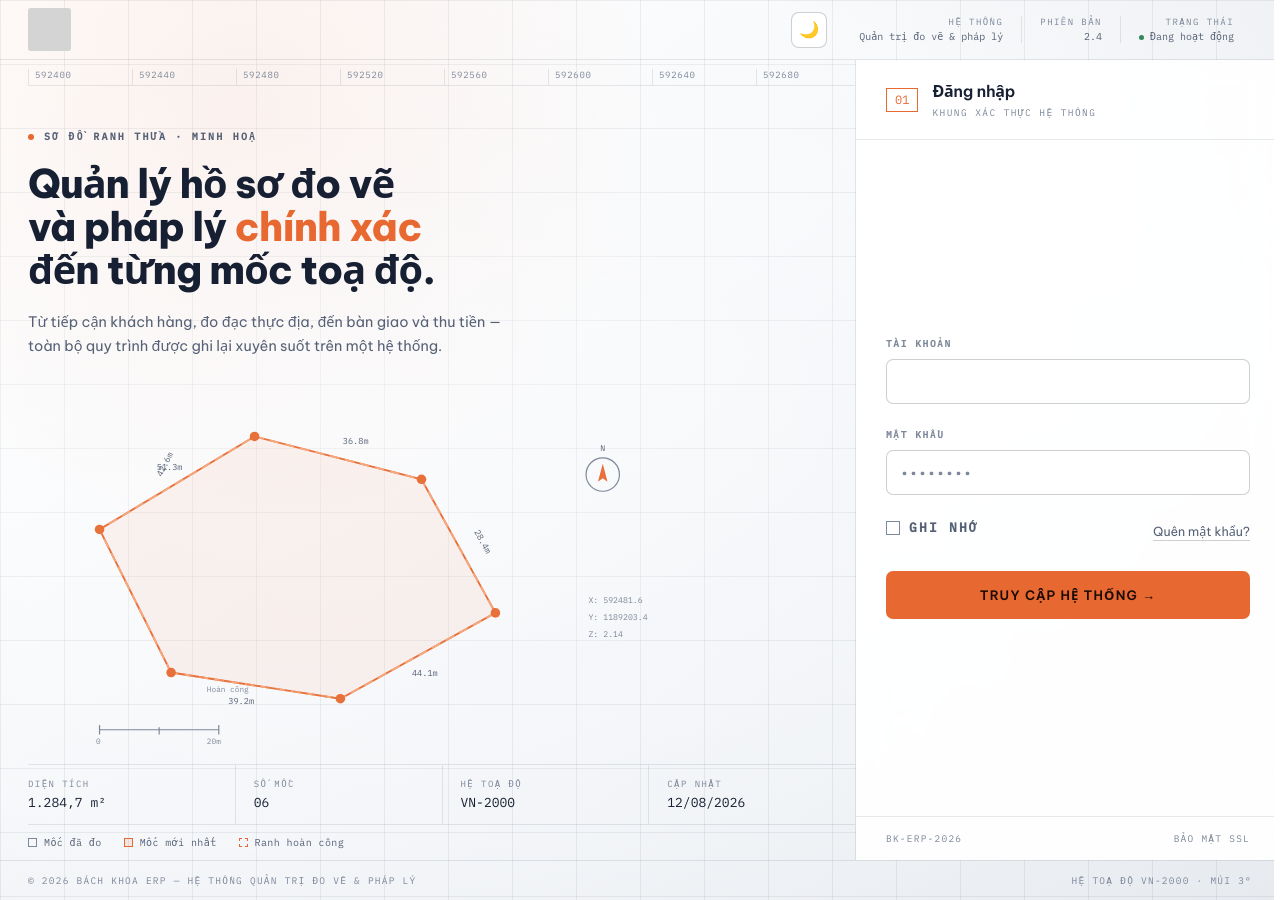
it: Login Forgot Password Flow › renders login form by default and toggles to forgot password form
Check: the heading "Đăng nhập" is shown, box [932,81,1015,101]
Click the button "Quên mật khẩu?": (1202, 532) [1153,523,1250,541]
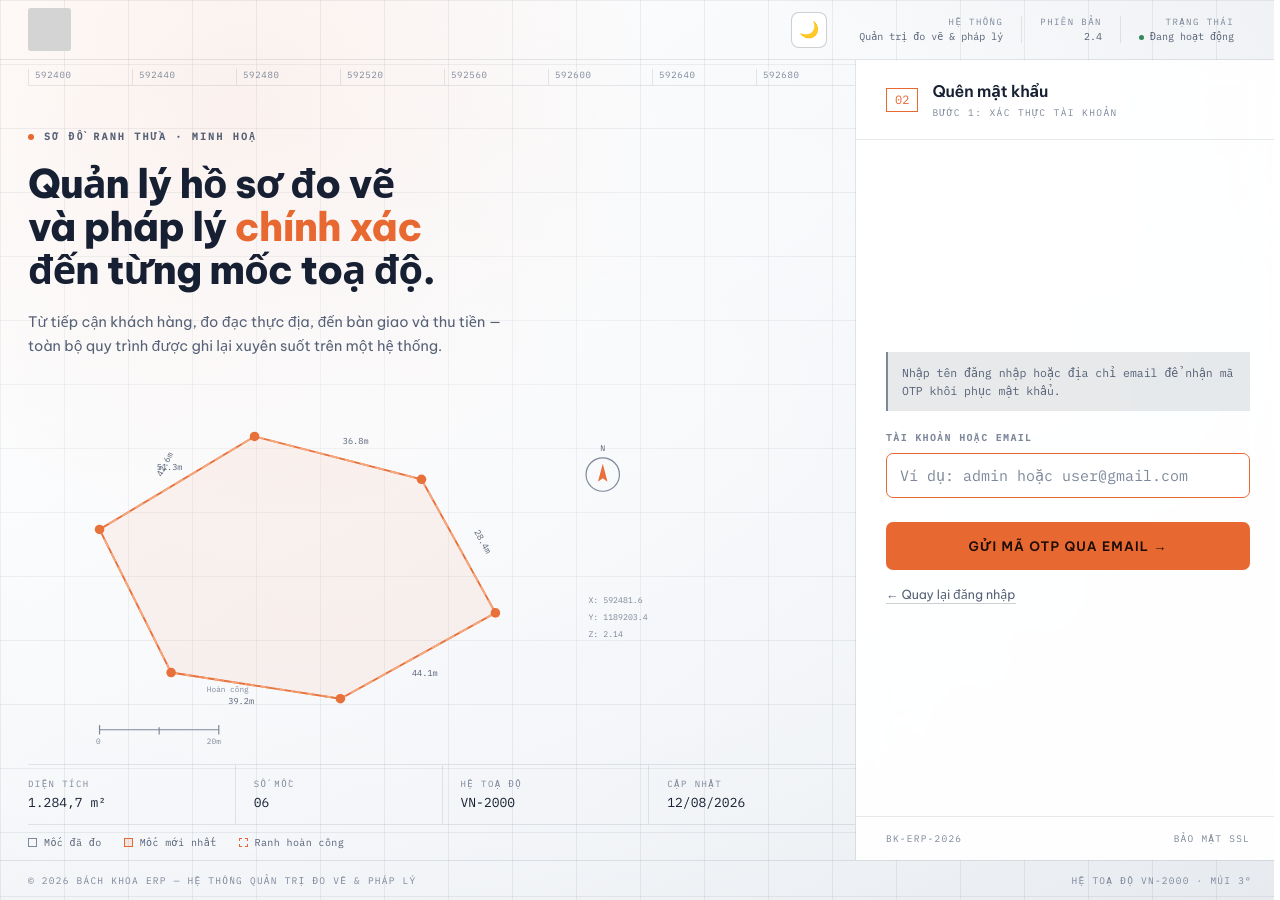
Check: the heading "Quên mật khẩu" is shown, box [932,81,1048,101]
Check: the field with placeholder "Ví dụ: admin hoặc user@gmail.com" is shown, box [886,453,1250,498]
Check: the button "Gửi mã OTP qua Email →" is shown, box [886,522,1250,570]
